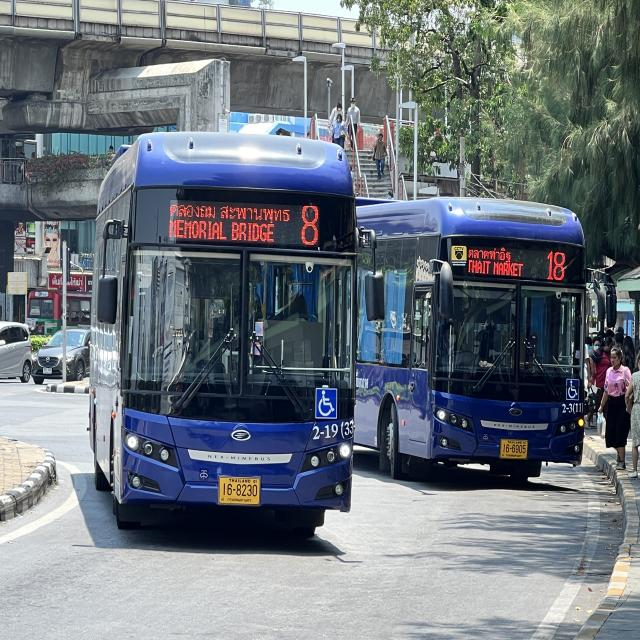Bus-Line-Number: (295, 195, 324, 254), (540, 243, 573, 289)
Destination-Sign-Normal: (165, 194, 295, 253), (461, 240, 528, 284)
TSB-Bus: (86, 131, 358, 538), (354, 197, 594, 483)
